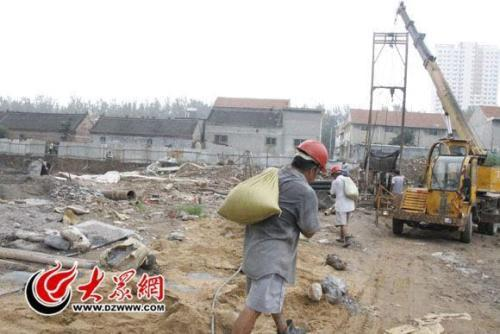helmet: (292, 140, 332, 180), (327, 164, 345, 181)
